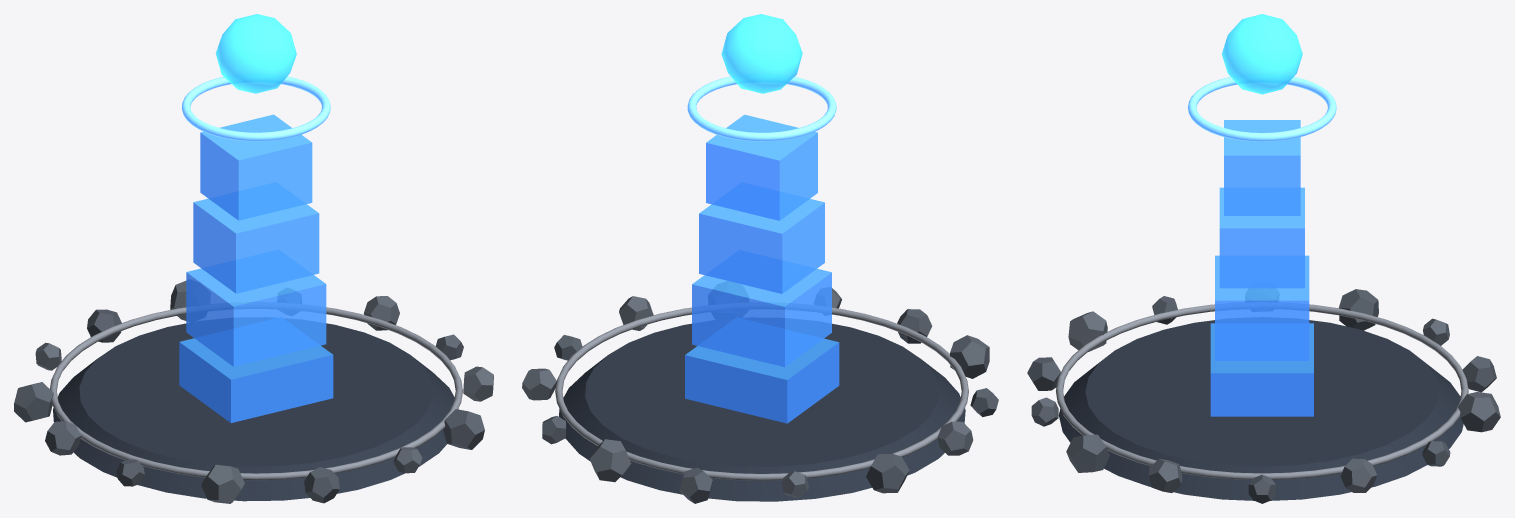
File: unit01.glb
3 renders of one model, left to right at view 1: azimuth 30°, elevation 25°; view 2: azimuth 150°, elevation 25°; view 3: azimuth 270°, elevation 25°, orthographic.
Visible parts, largest first — view 1: rw3_unit01_digital_tower, Crystal; view 2: rw3_unit01_digital_tower, Crystal; view 3: rw3_unit01_digital_tower, Crystal.
Part boxes in pixels (left/top/right/bottom): rw3_unit01_digital_tower: left=14, top=76, right=493, bottom=503; Crystal: left=215, top=14, right=296, bottom=93; rw3_unit01_digital_tower: left=522, top=76, right=998, bottom=503; Crystal: left=721, top=14, right=802, bottom=93; rw3_unit01_digital_tower: left=1027, top=77, right=1500, bottom=503; Crystal: left=1221, top=14, right=1302, bottom=94.
Size of the model in its own units: 6.44 by 5.95 by 6.42.
